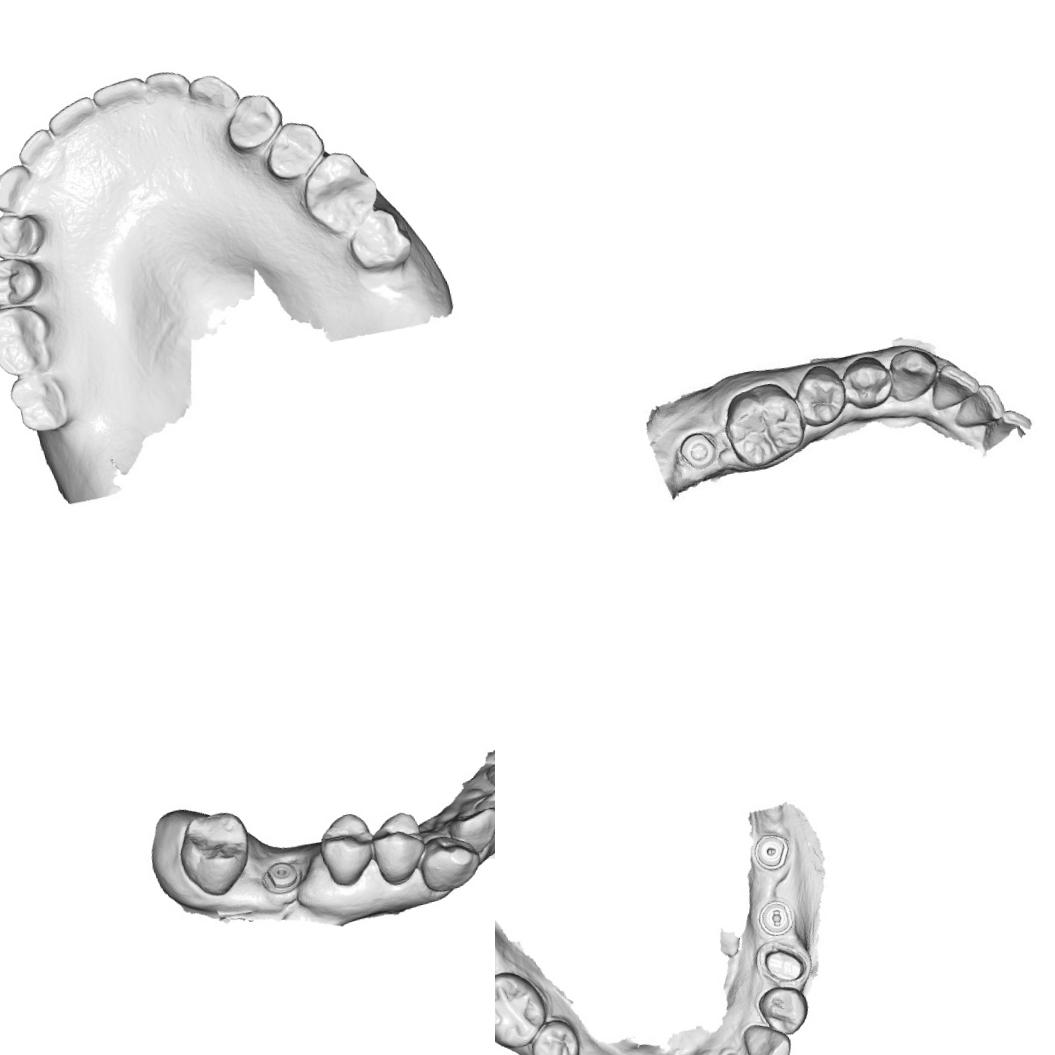canine: (412, 826, 485, 897), (884, 342, 946, 410), (183, 56, 241, 126), (0, 159, 49, 220), (738, 1016, 795, 1055)
crown: (754, 934, 810, 989)
implant: (256, 854, 305, 901), (749, 830, 793, 874), (679, 427, 716, 467)
implant_minus: (752, 894, 797, 940)
incisor: (85, 58, 150, 123), (42, 86, 104, 144), (438, 802, 495, 864), (9, 118, 64, 175), (141, 62, 196, 116), (932, 365, 982, 416), (954, 384, 1004, 428), (470, 769, 495, 843)
molar: (290, 142, 387, 244), (168, 803, 258, 904), (719, 379, 808, 472), (338, 201, 418, 278), (4, 362, 82, 440), (0, 297, 67, 385), (495, 964, 552, 1055)
premolar: (312, 806, 380, 892), (364, 804, 430, 890), (218, 84, 294, 158), (260, 116, 330, 190), (788, 360, 850, 429), (836, 351, 896, 415), (753, 980, 813, 1040), (0, 248, 48, 316), (0, 204, 51, 267), (524, 1014, 583, 1055)
